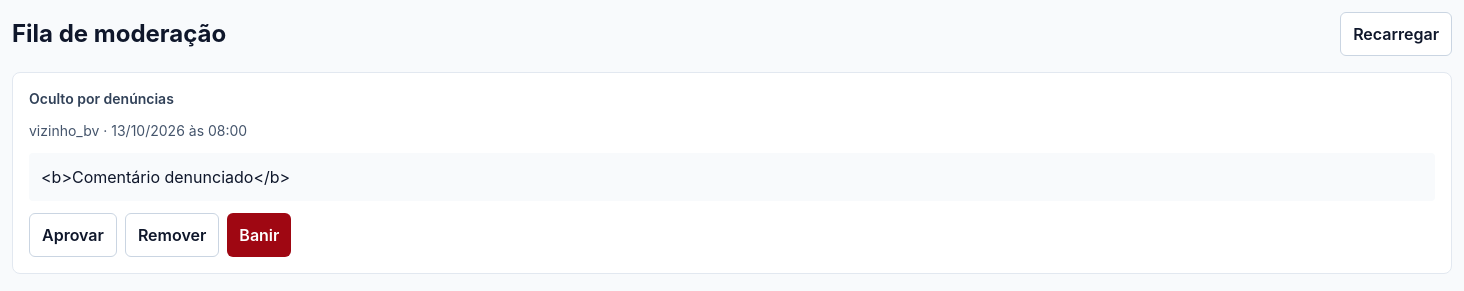
Test: AdminModeracao › aprovar tira o item da fila
Step 1. Click the button "Aprovar" → (73, 235), box [29,213,117,257]
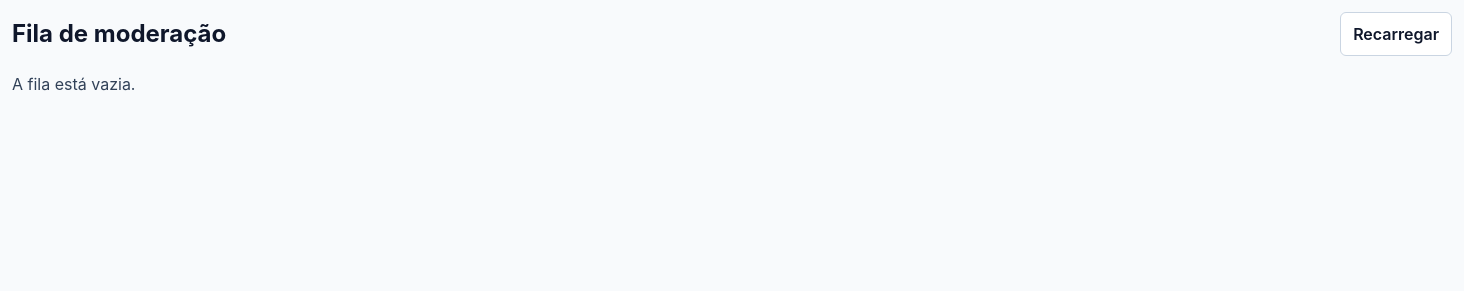
Expected: the heading "Fila de moderação" is shown, [12,18,226,50]
Expected: the text "A fila está vazia." is shown, [12,74,136,94]
